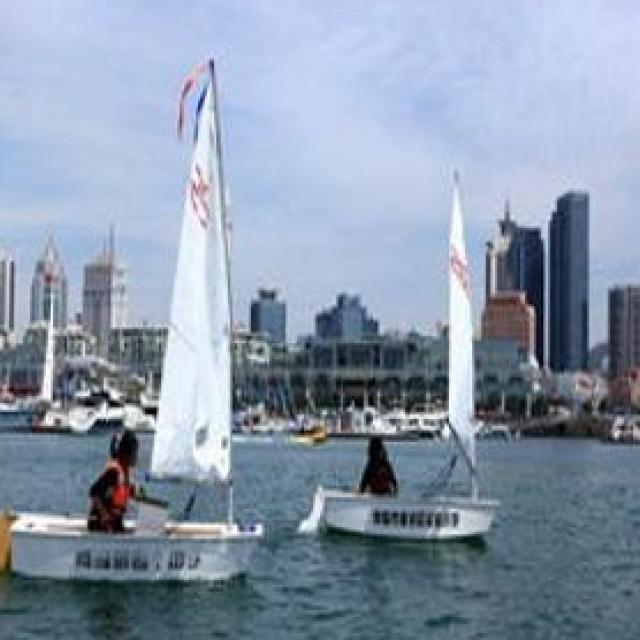sailboat: (0, 60, 262, 585), (313, 158, 506, 541)
